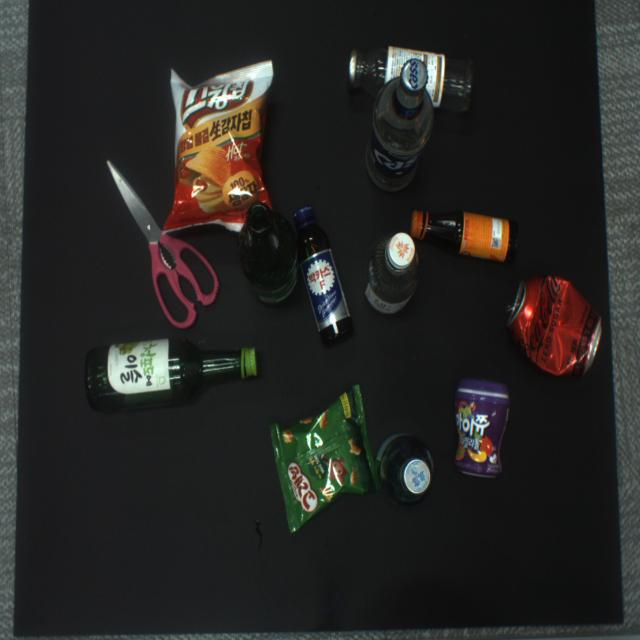soju-bottle: (85, 339, 258, 411)
